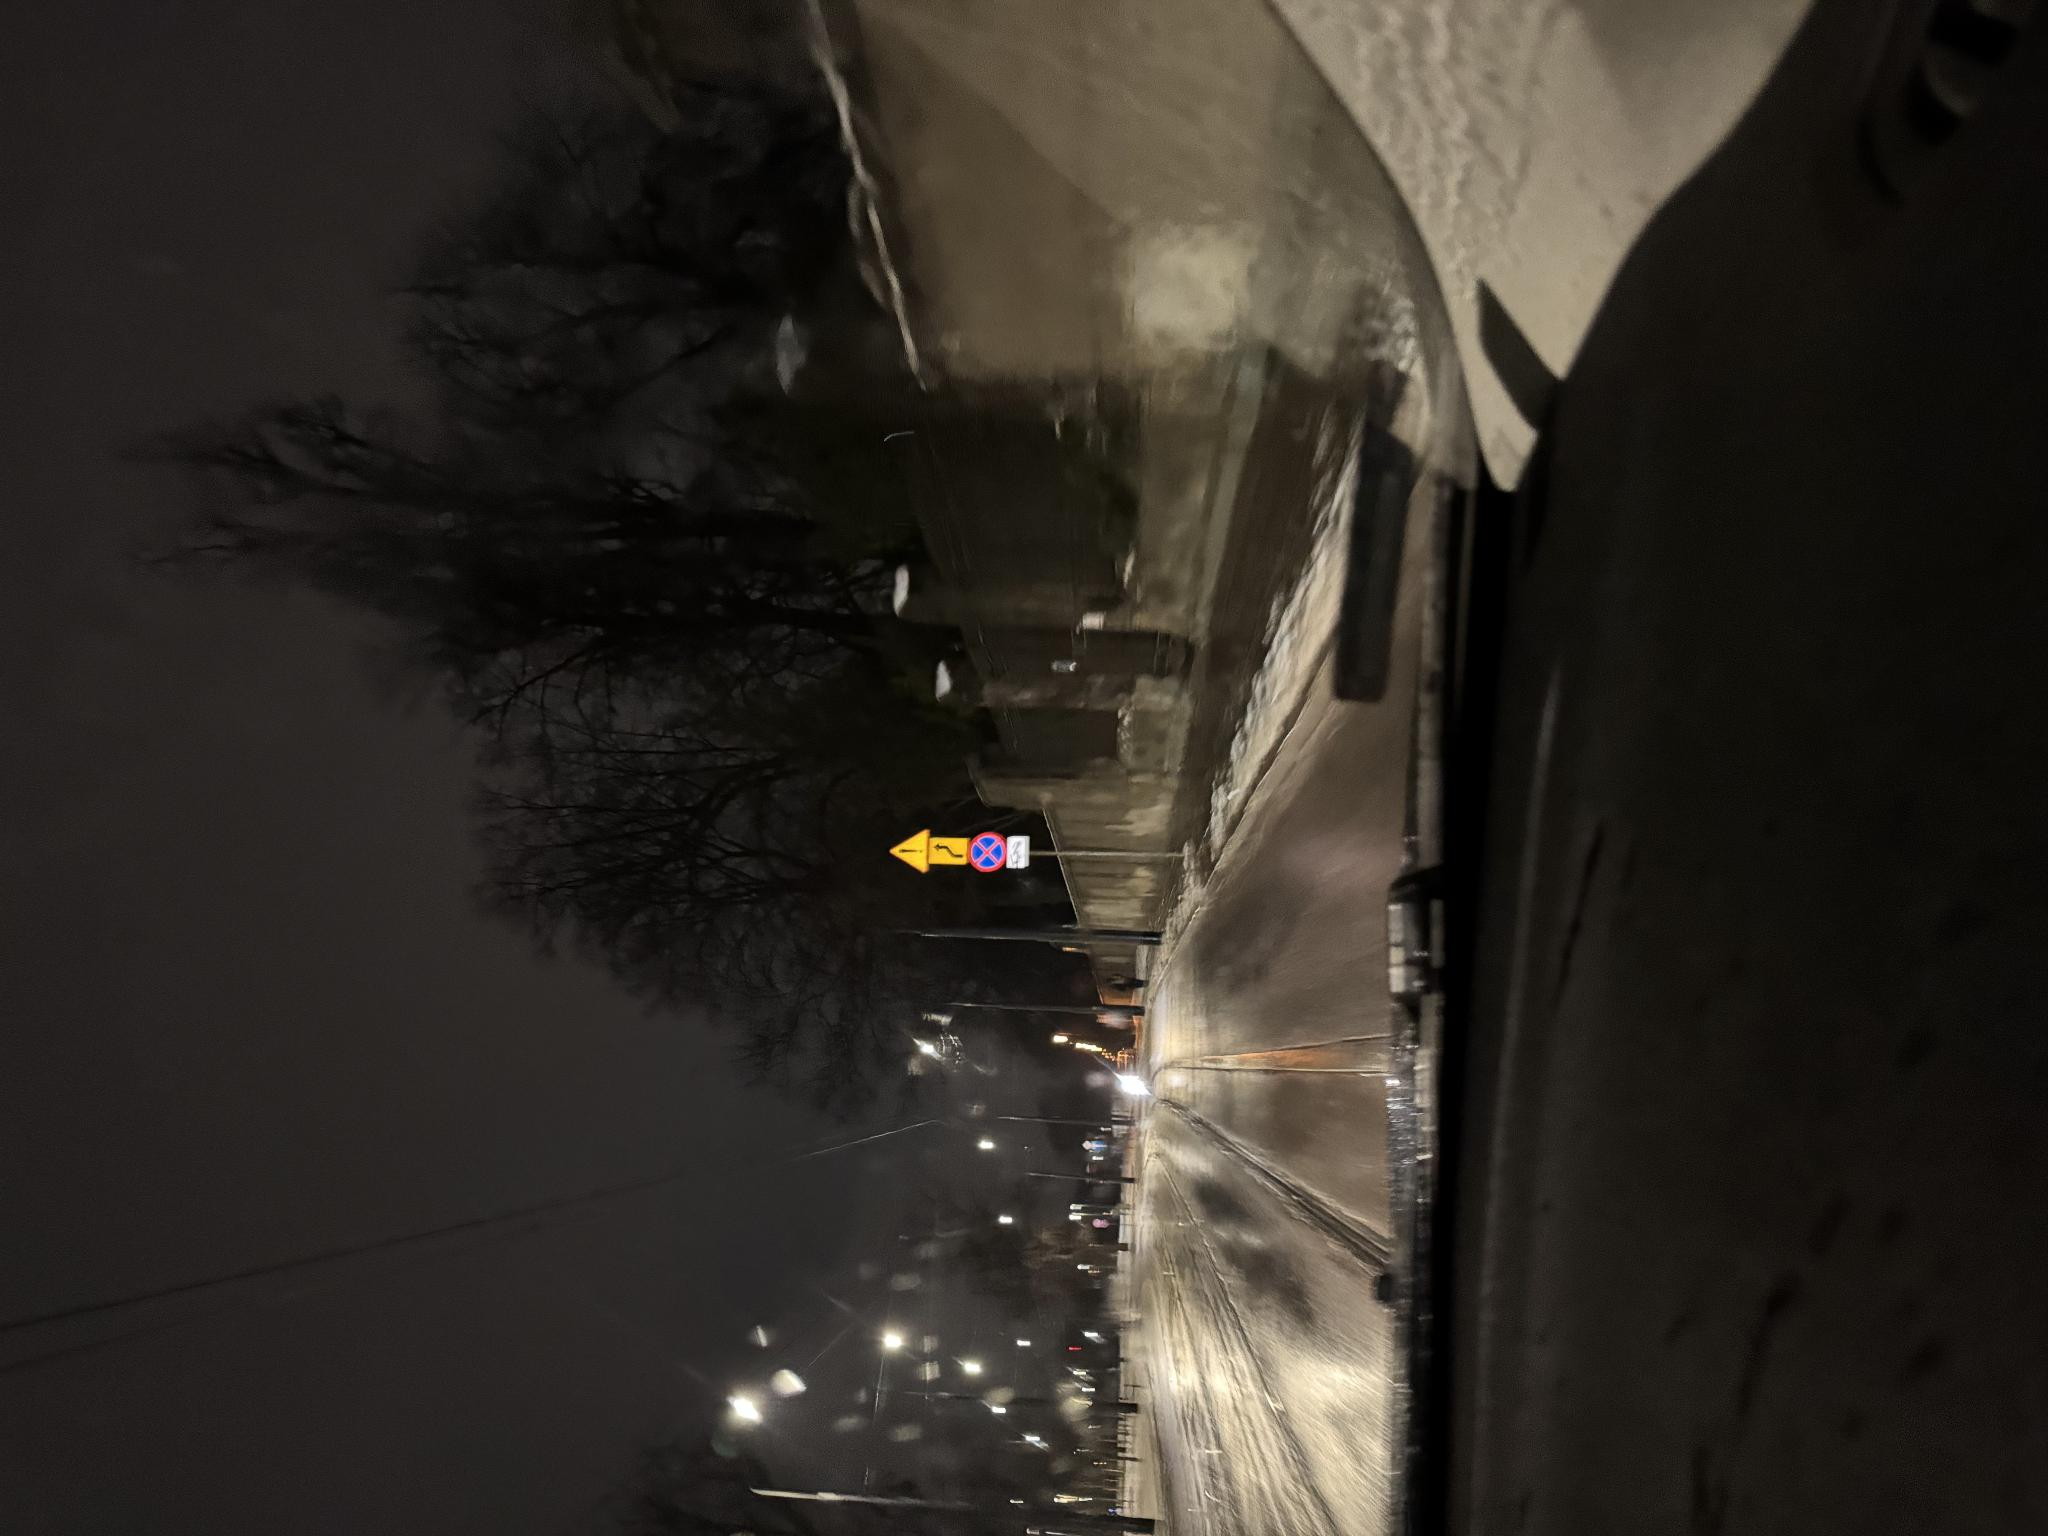other: (671, 928, 698, 968), (668, 1007, 700, 1029)
prohibitory: (663, 968, 705, 1007)
warning: (663, 889, 706, 929)
